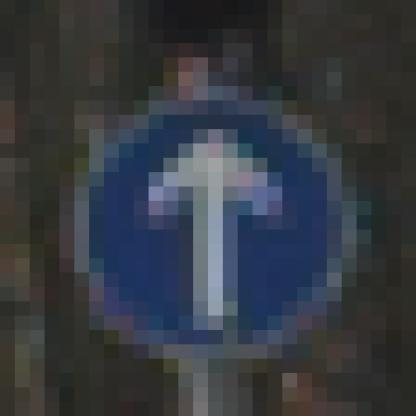straight: (60, 86, 386, 373)
